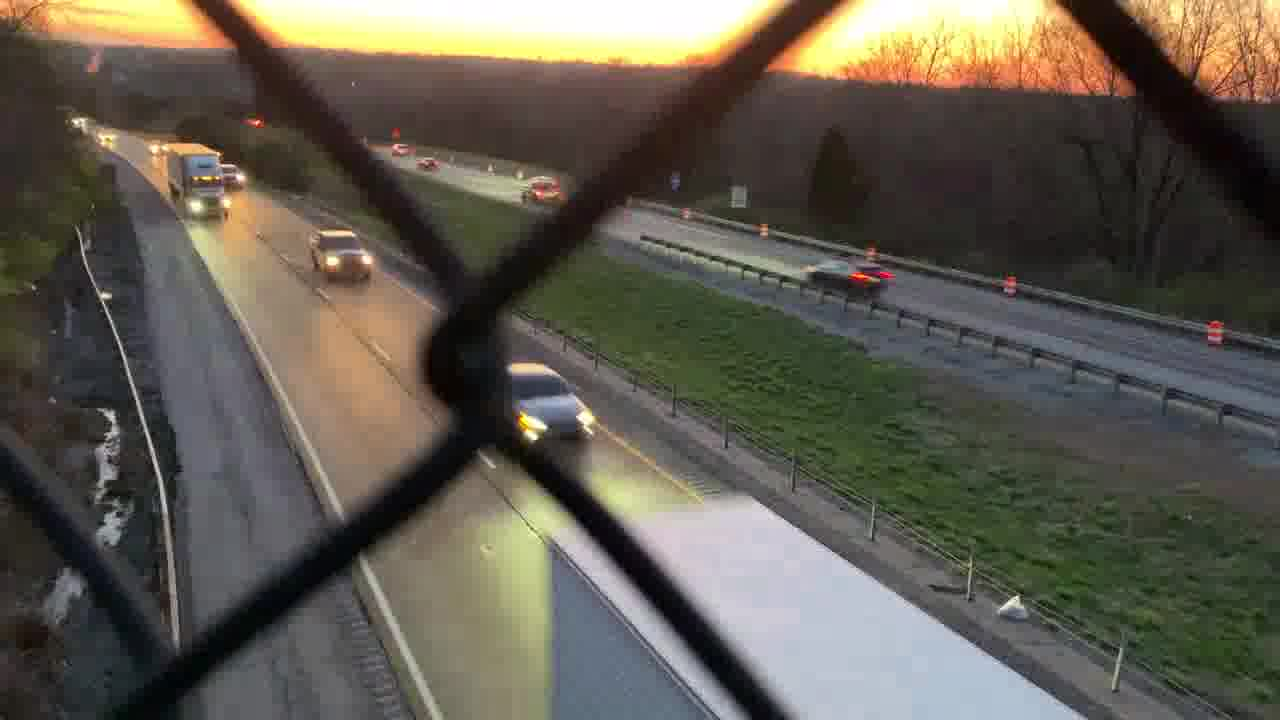heavyTruck: (162, 138, 234, 225)
lightTruck: (310, 229, 373, 282)
smallCar: (499, 359, 601, 448), (804, 250, 896, 302)
